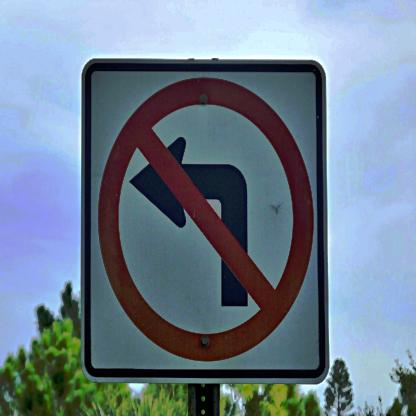No left turn: (86, 60, 321, 376)
